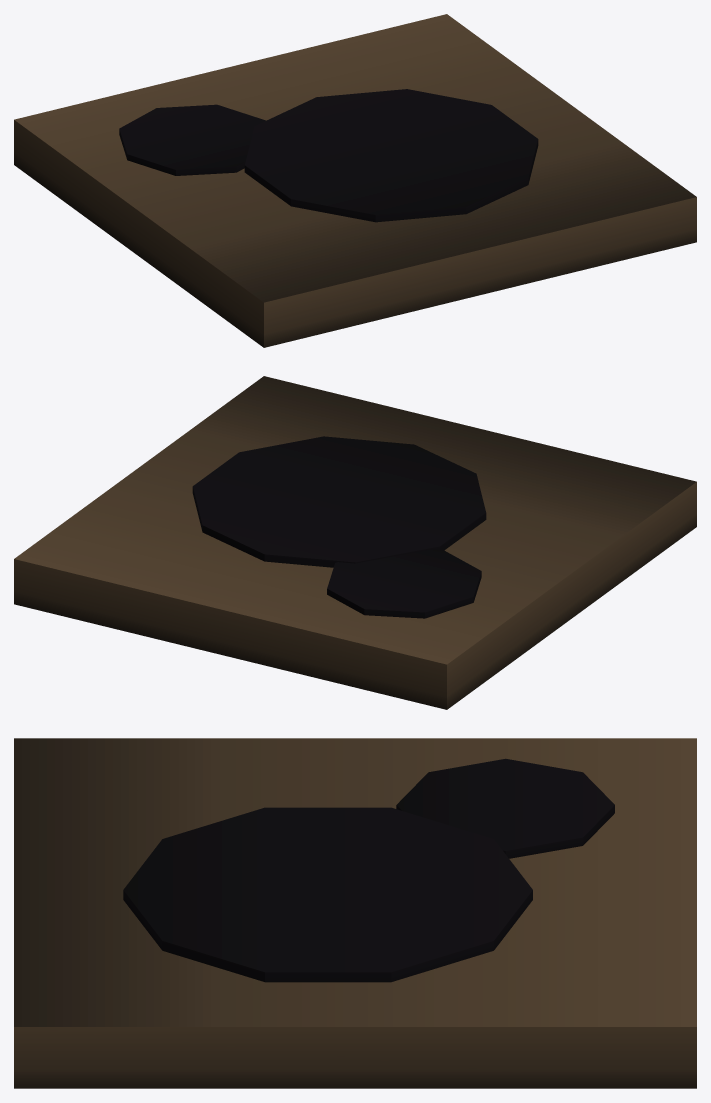
File: ground_mud.gltf
3 views of the same model, one above another, from view 1: azimuth 30°, elevation 25°; view 2: azimuth 150°, elevation 25°; view 3: azimuth 270°, elevation 25° (orthographic). The views are drawn at different scales.
Visible parts, largest first — view 1: ground_mud; view 2: ground_mud; view 3: ground_mud.
Boxes of the visible parts, left/top/right/bottom form: ground_mud: left=14, top=14, right=696, bottom=347; ground_mud: left=14, top=376, right=696, bottom=709; ground_mud: left=14, top=738, right=696, bottom=1088.
Bounding box in the file's own units: 1 × 0.116 × 1.
1 material, 1 textured.
